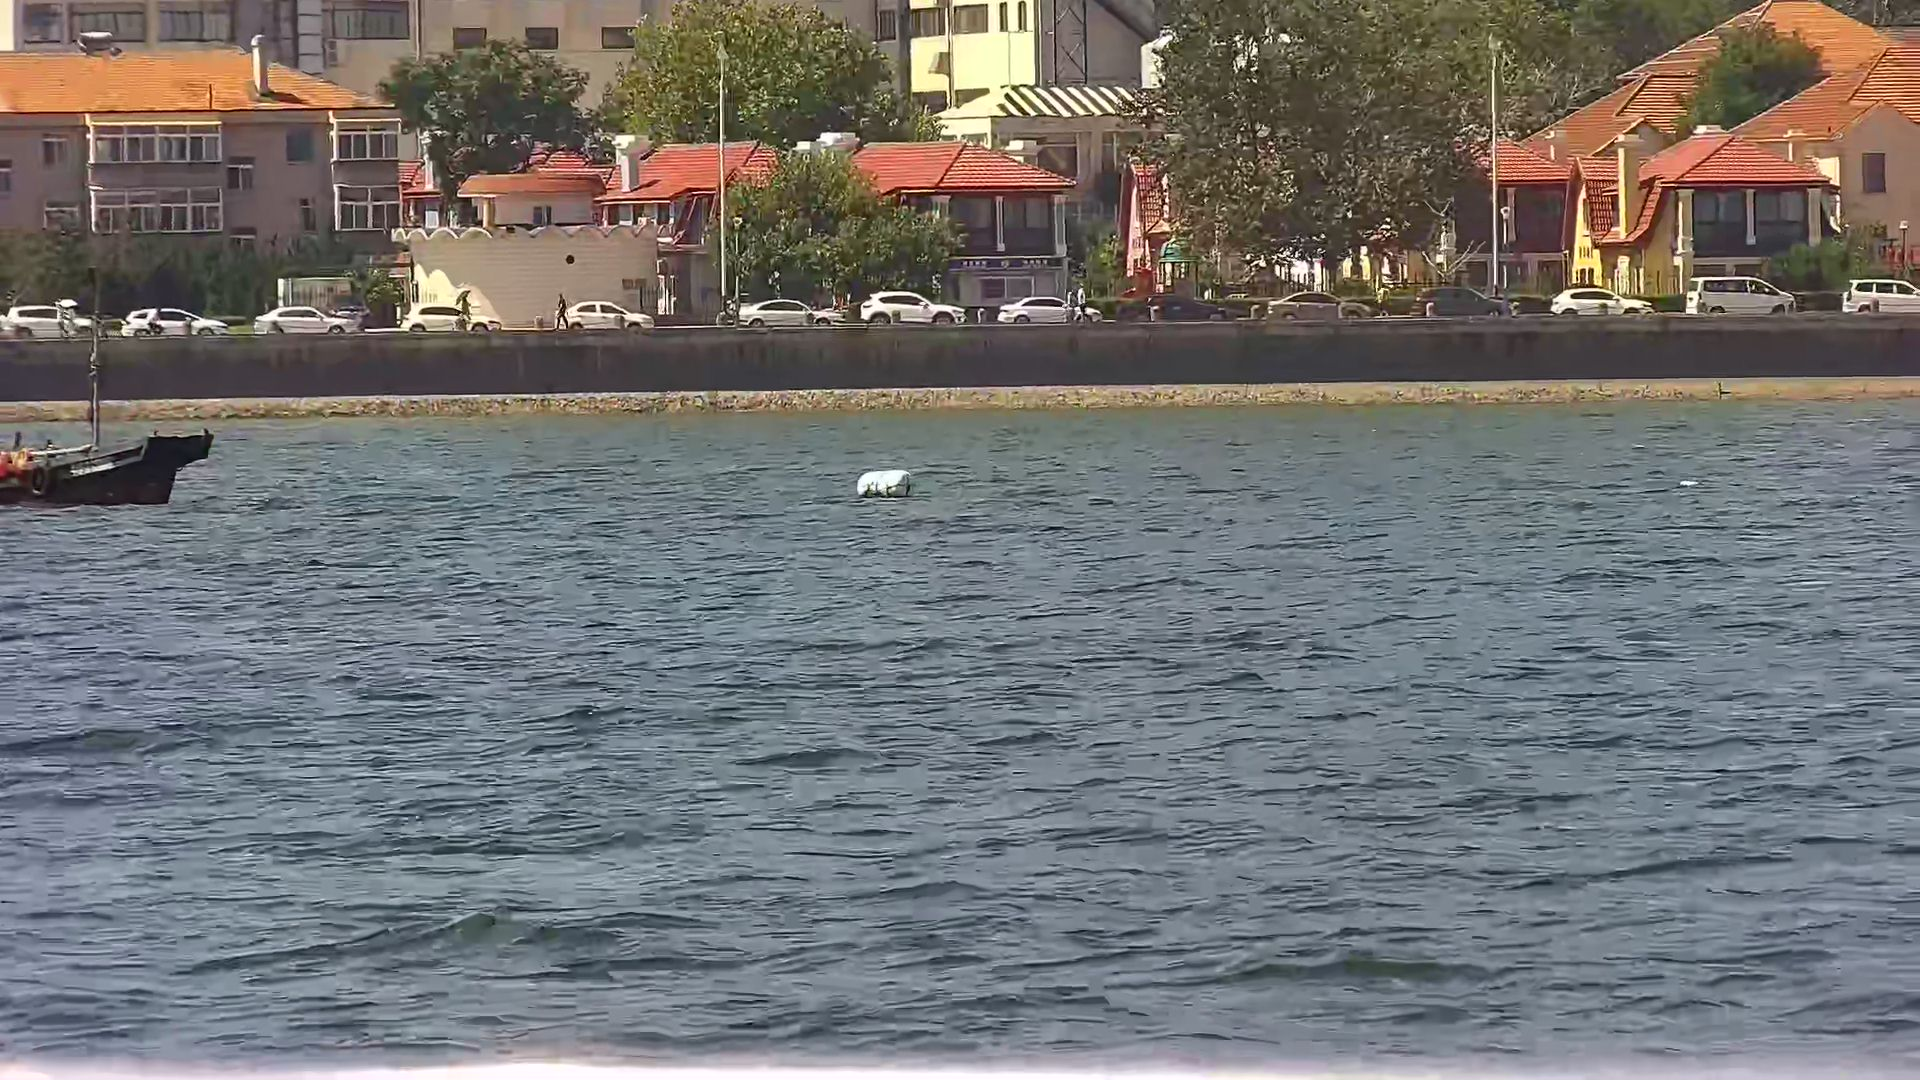boat: (3, 436, 214, 502)
rubbish: (858, 469, 910, 498)
